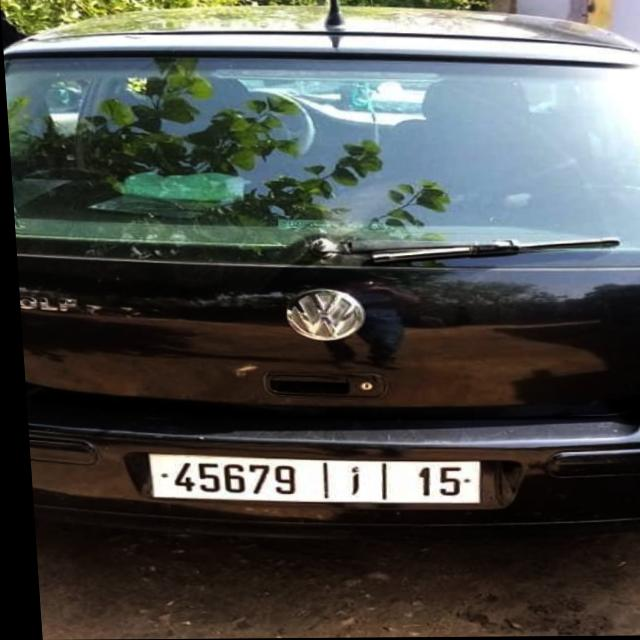License-Plate: (142, 455, 475, 505)
